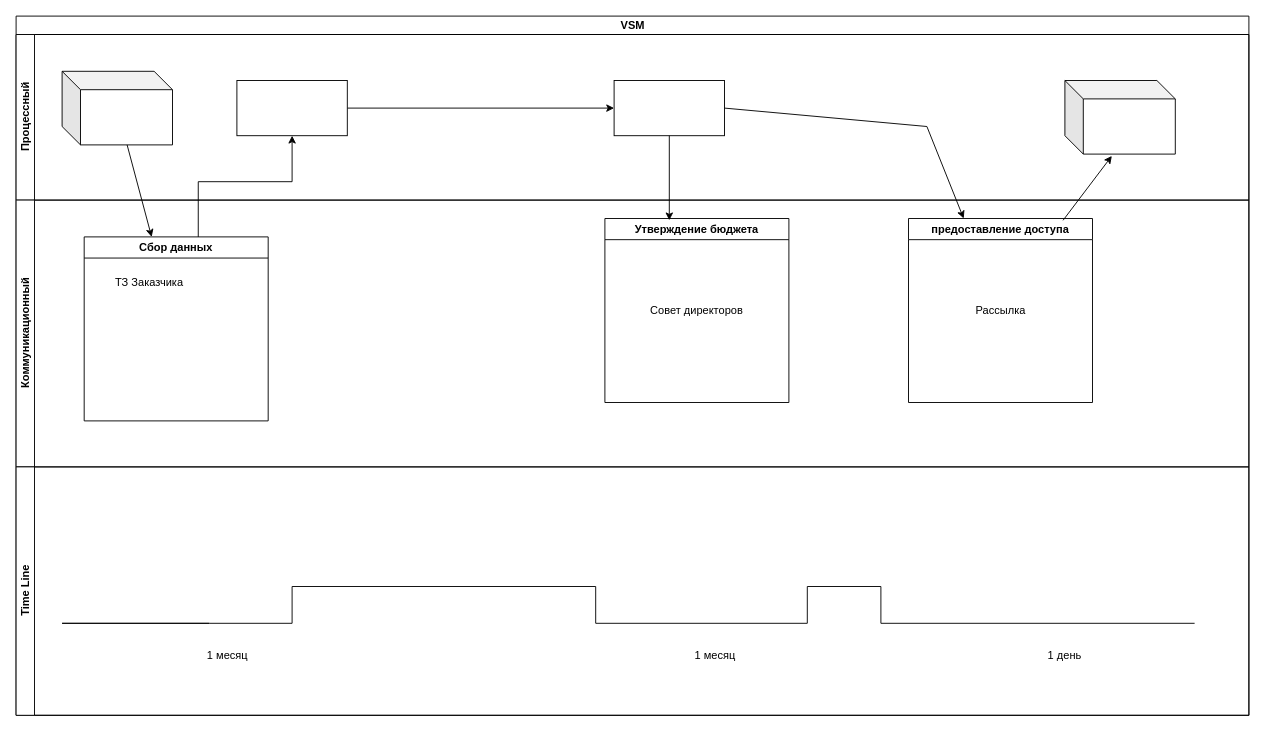
Some shapes in this 1265 by 731 pixel diagram are drawn without their labels. Each missing label, with the centre of its shape:
"Подразделения" goes at (1119,117).
"Файл с бюджетом" goes at (668,108).
"Фин.отдел" goes at (116,107).
"Форма SAP" goes at (291,108).
